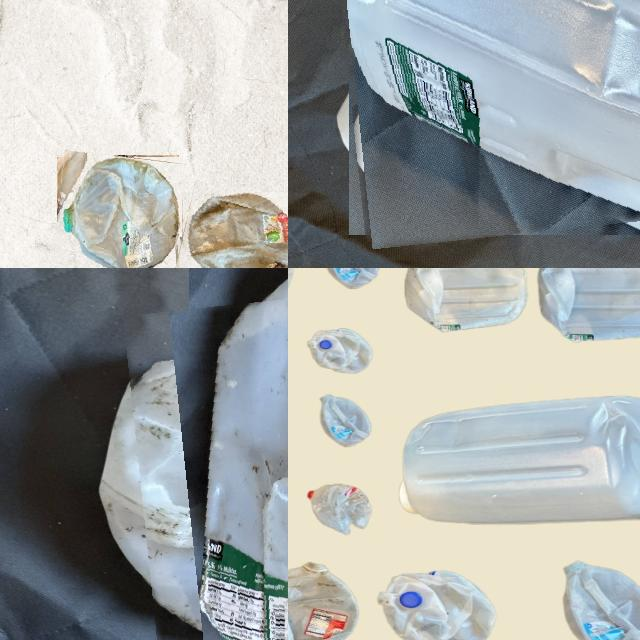milk-jug: (332, 0, 640, 238), (133, 283, 288, 640), (392, 396, 640, 525), (54, 151, 183, 268), (399, 268, 533, 344), (176, 185, 288, 268), (377, 559, 489, 640), (536, 268, 640, 341), (555, 562, 640, 640), (288, 558, 356, 640), (302, 480, 372, 534), (306, 325, 378, 373), (96, 239, 213, 268), (309, 392, 376, 442), (322, 268, 378, 294)
